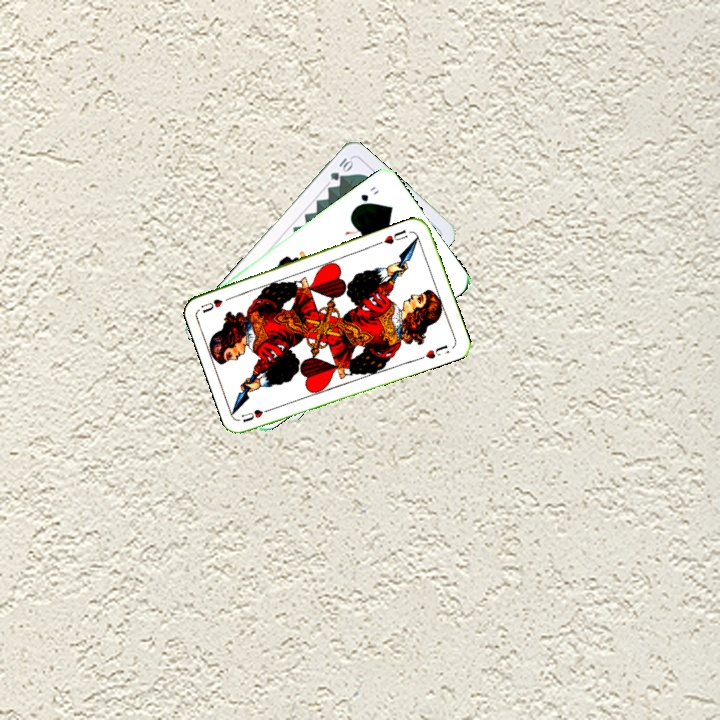G10: (326, 154, 355, 183)
GO: (351, 183, 382, 211)
HU: (237, 403, 277, 425), (375, 226, 410, 247)
